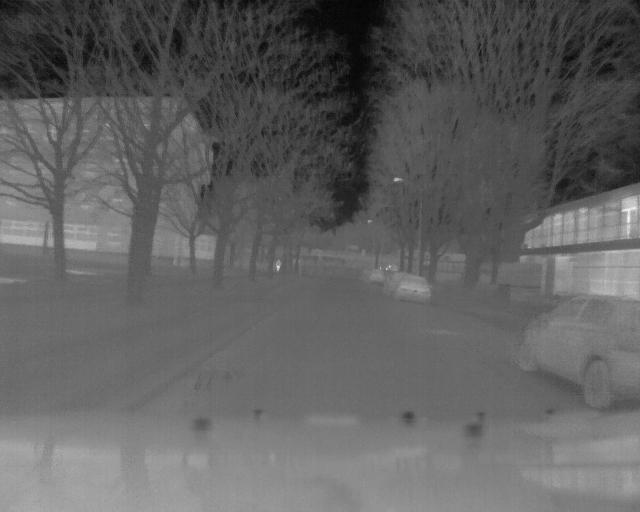car: (518, 290, 640, 410), (387, 272, 432, 305)
person: (274, 258, 283, 273)
